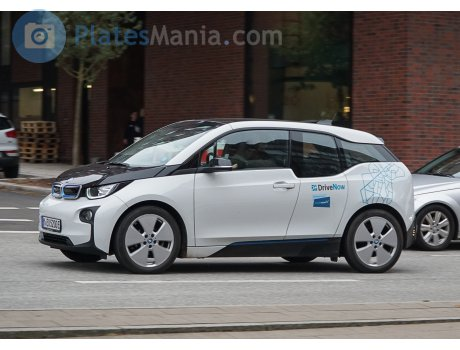License Plates: (40, 218, 62, 226)
